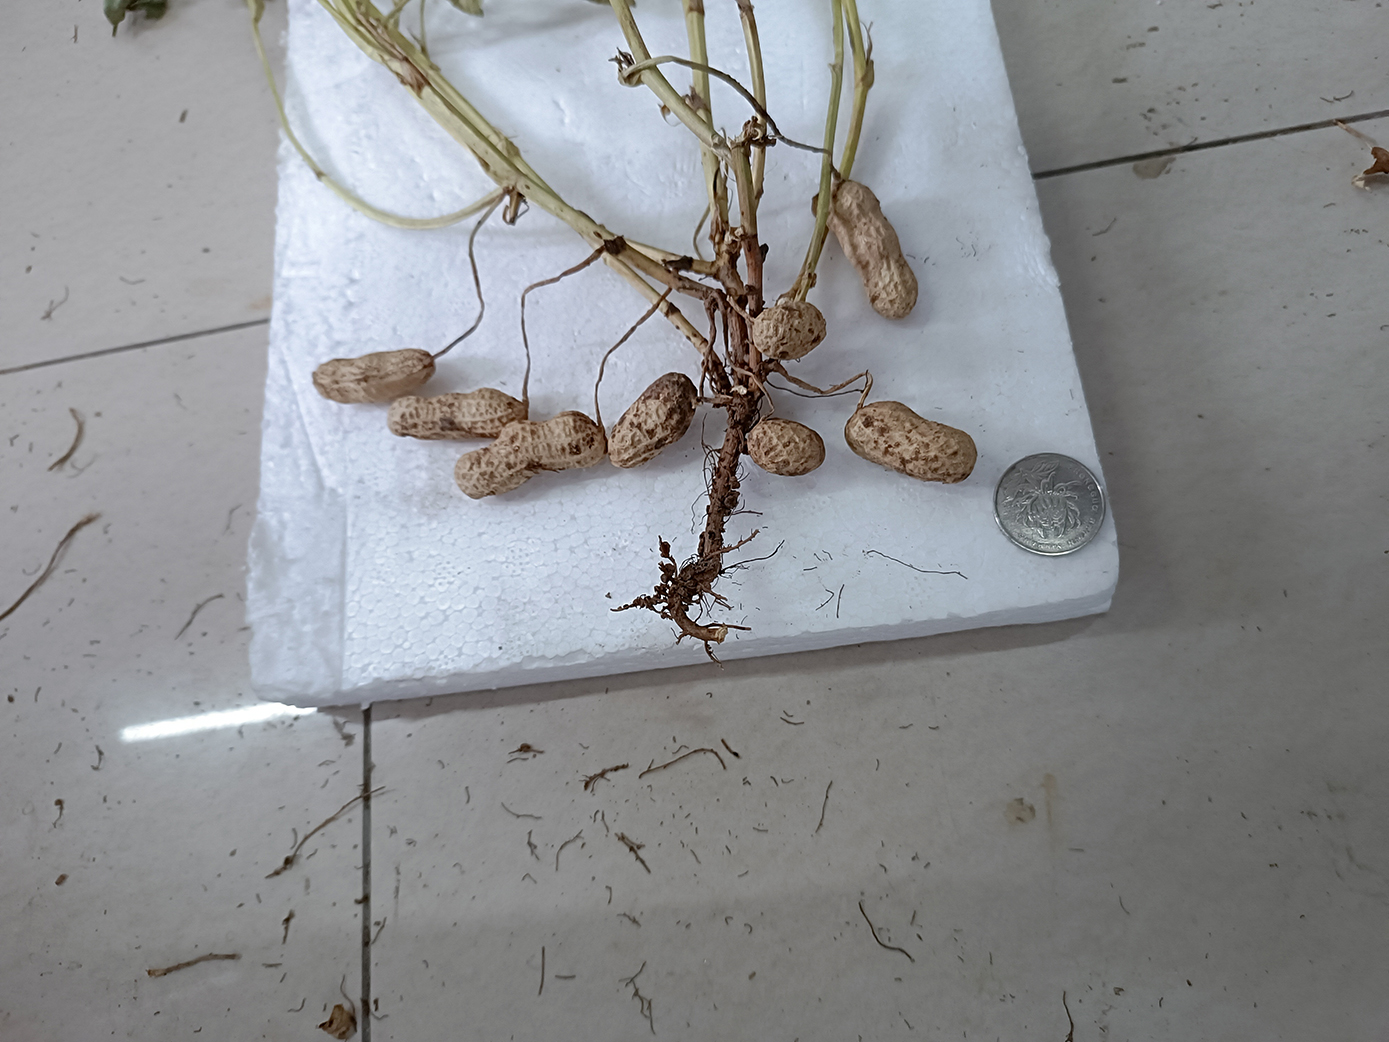h: (454, 413, 606, 498), (826, 184, 921, 320), (845, 401, 979, 483), (605, 371, 695, 470), (311, 348, 438, 405), (386, 386, 530, 437), (745, 418, 825, 477), (752, 303, 827, 359)
